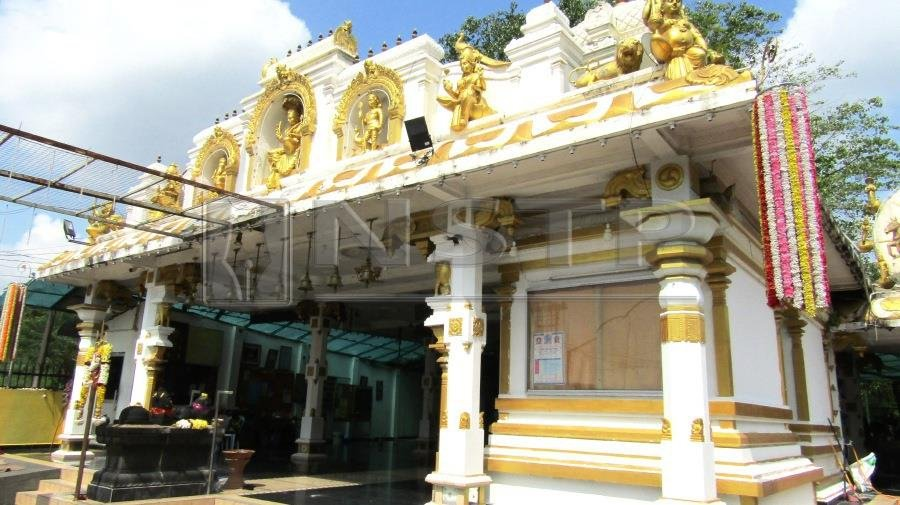Hindu Temple: (41, 4, 841, 480)
